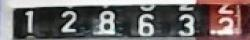digits: (91, 10, 123, 34), (216, 4, 235, 39), (176, 12, 197, 37), (137, 12, 155, 36), (20, 10, 37, 33), (60, 9, 77, 32)
